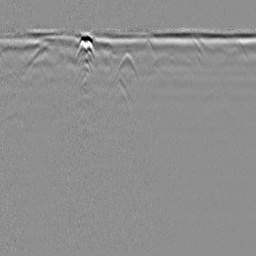cavity: (116, 53, 138, 75)
